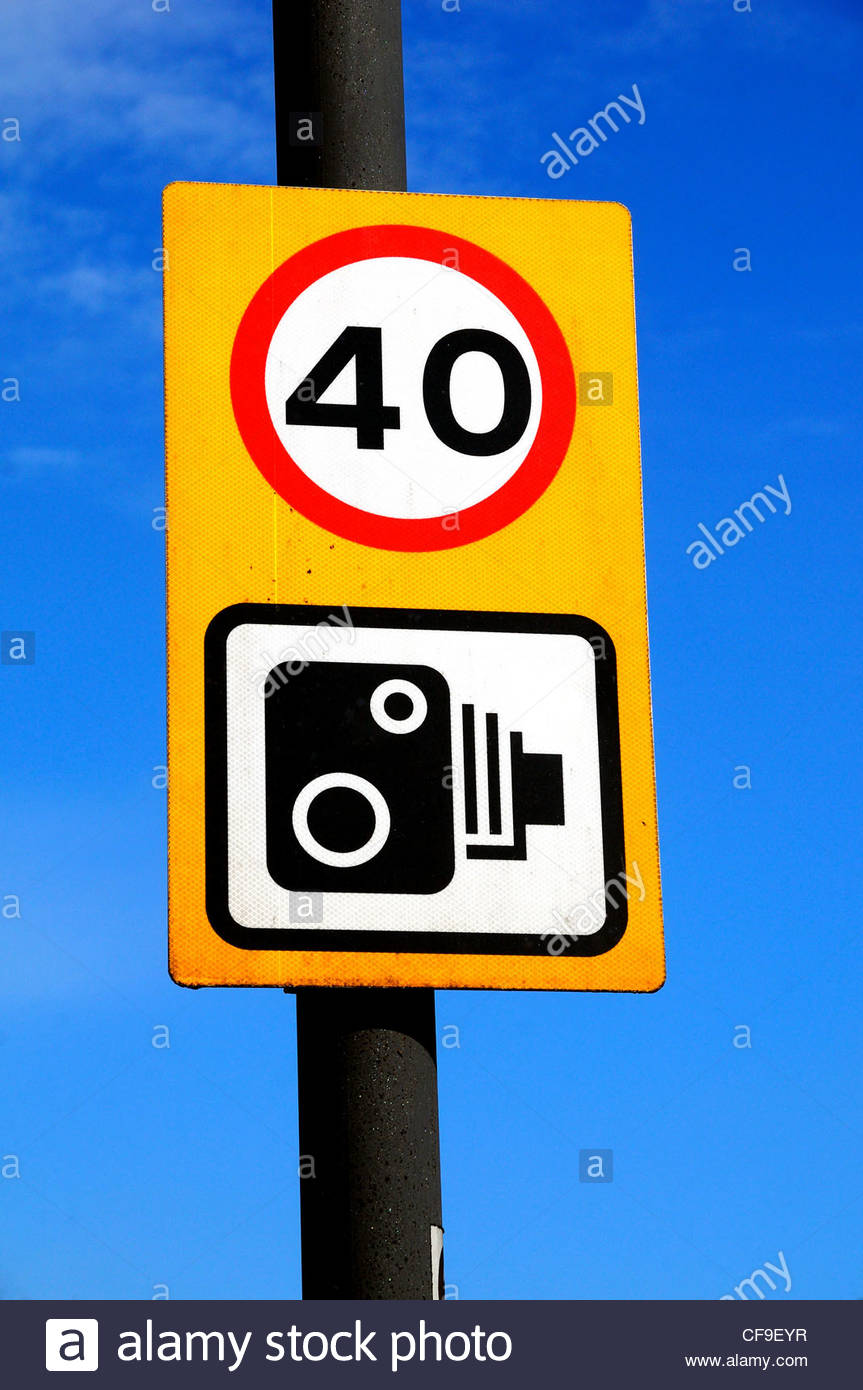Speed_limit_40km: (226, 225, 580, 554)
